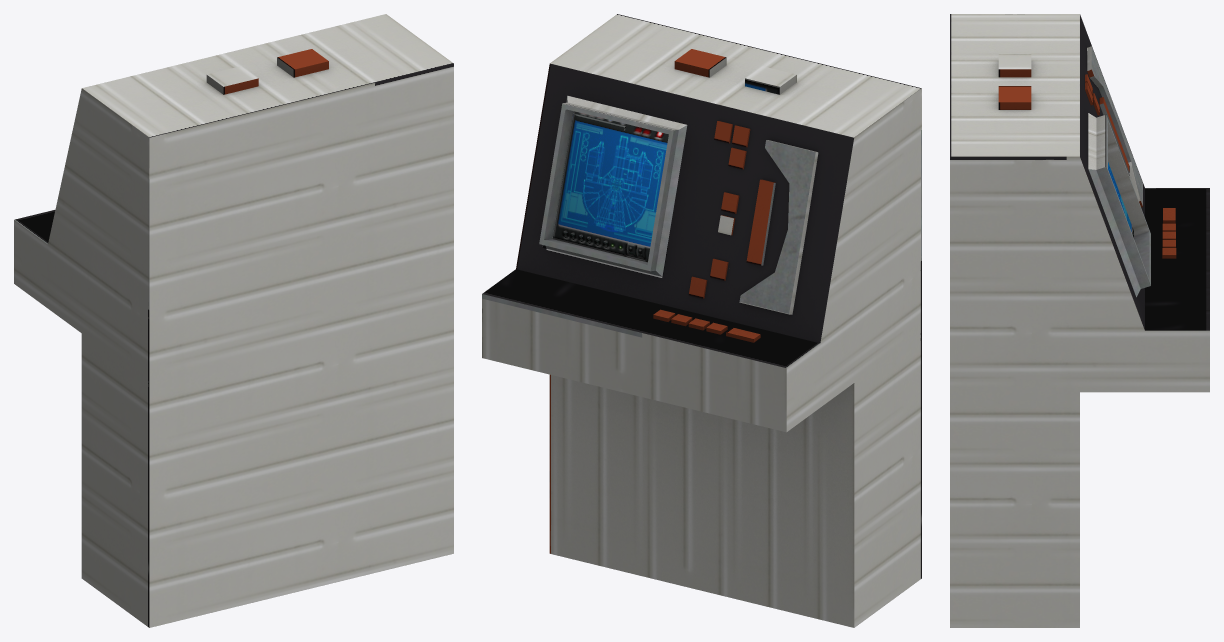
Rendered from controlcomputer.glb.
The picture shows the model from 3 angles, left to right: view 1: azimuth 30°, elevation 25°; view 2: azimuth 150°, elevation 25°; view 3: azimuth 270°, elevation 25°; orthographic projection. The views are drawn at different scales.
Parts seen in each view (by area): view 1: Cube_0; view 2: Cube_0; view 3: Cube_0.
Boxes of the visible parts, <box> form: Cube_0: <box>14,14,453,627</box>; Cube_0: <box>482,14,921,627</box>; Cube_0: <box>950,14,1209,627</box>.
Size of the model in its own units: 5.2 by 8.13 by 4.
1 material, 1 textured.
